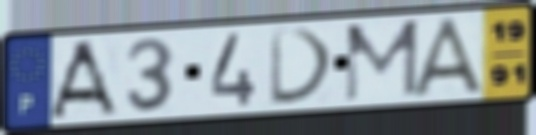3: (124, 34, 180, 115)
4: (209, 30, 258, 109)
A: (406, 14, 492, 98), (45, 38, 122, 120)
D: (267, 26, 339, 108)
M: (341, 17, 422, 105)
